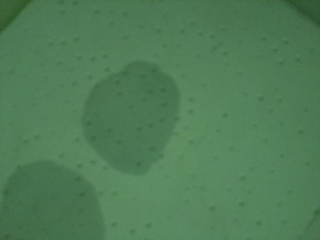Water_detected: (83, 76, 164, 157), (23, 177, 87, 240)
